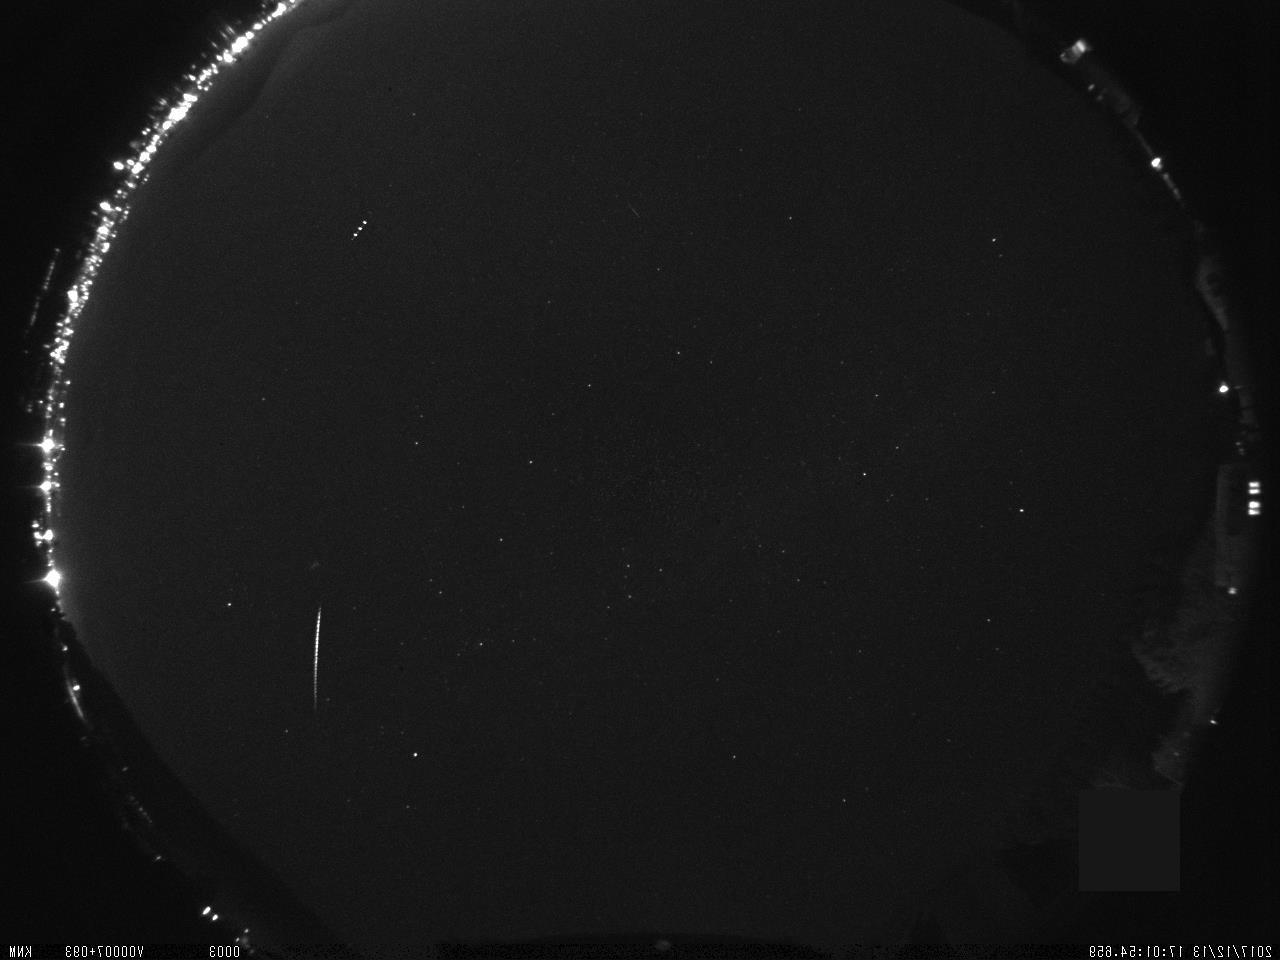meteor: (299, 588, 334, 719)
